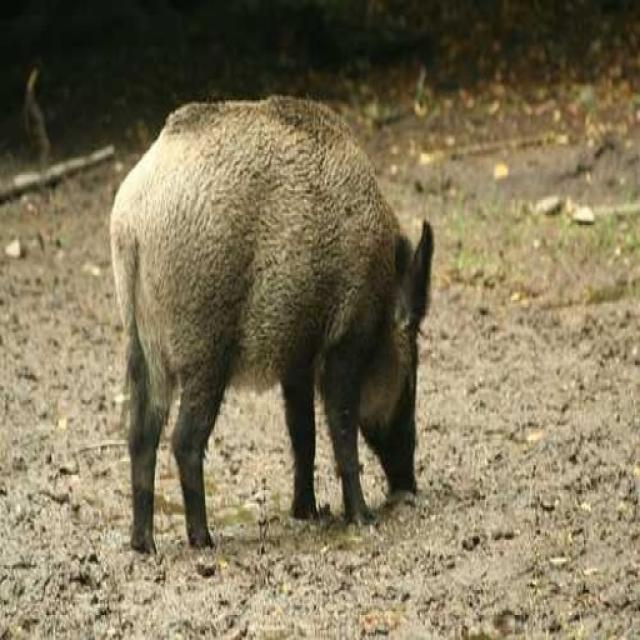pig: (70, 46, 476, 594)
